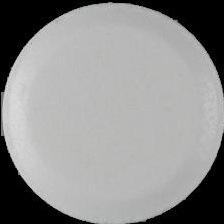54868-6206: (0, 0, 224, 224)
